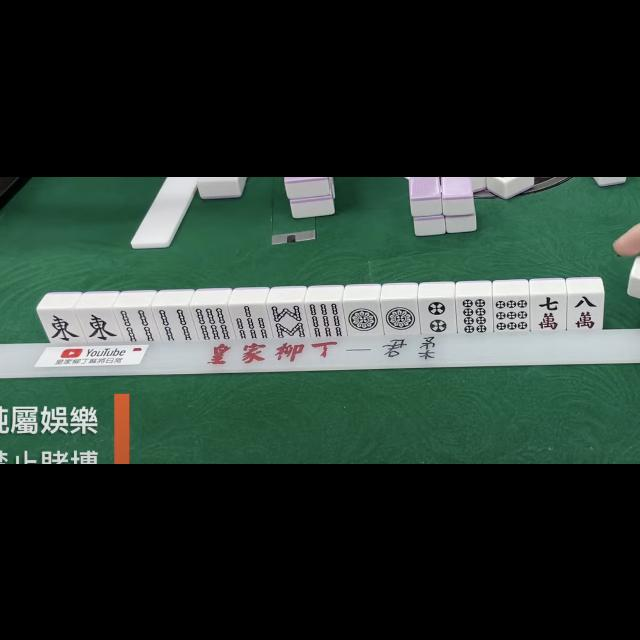b4: (158, 306, 194, 342), (119, 308, 155, 342)
b6: (195, 306, 231, 342)
b7: (233, 304, 270, 338)
b8: (270, 302, 306, 338)
b9: (308, 301, 344, 339)
c7: (532, 294, 566, 328)
c8: (568, 293, 602, 331)
d1: (383, 299, 419, 333), (346, 300, 380, 336)
d2: (418, 298, 456, 332)
d8: (457, 296, 491, 334)
d9: (494, 296, 530, 332)
we: (42, 309, 82, 343), (82, 308, 118, 342)
